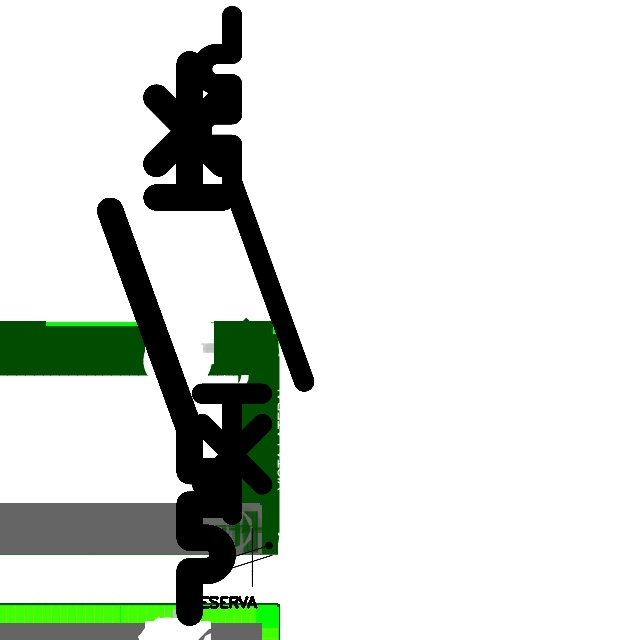interruptor_termomagnetico: (96, 50, 237, 627), (189, 3, 317, 528)
